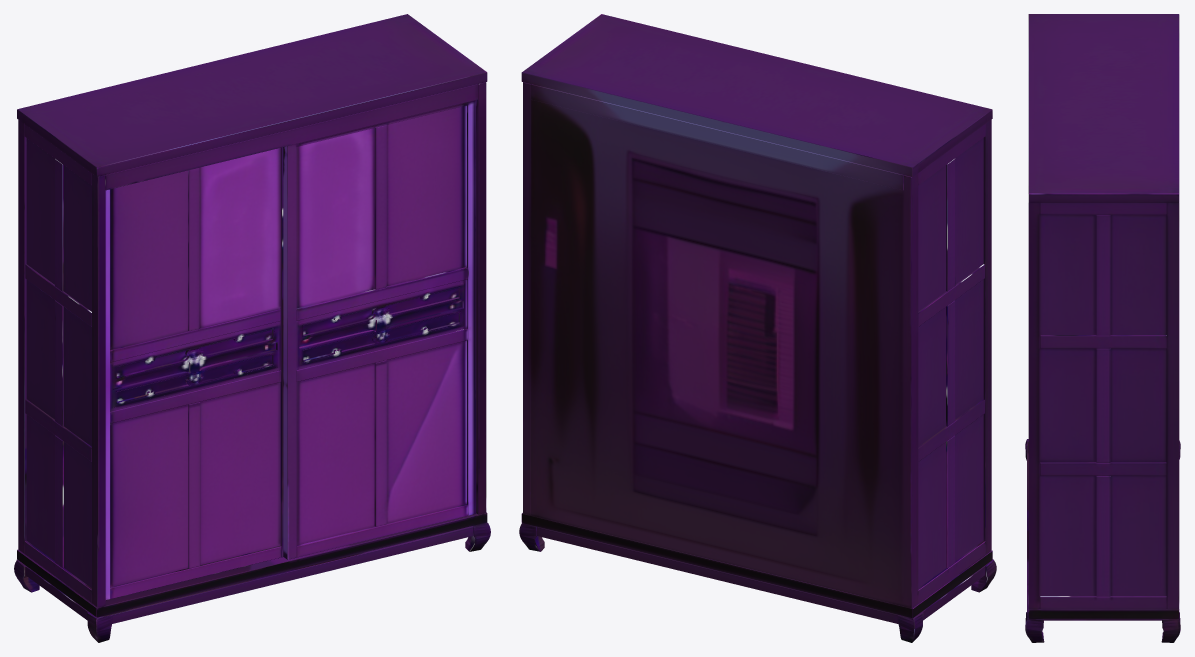
Rendered from edited_mesh.glb.
The picture shows the model from 3 angles, left to right: view 1: azimuth 30°, elevation 25°; view 2: azimuth 150°, elevation 25°; view 3: azimuth 270°, elevation 25°; orthographic projection. The views are drawn at different scales.
Visible parts, largest first — view 1: normalized_model.obj; view 2: normalized_model.obj; view 3: normalized_model.obj.
Part boxes in pixels (box(x1,y1,x2,y2)): normalized_model.obj: box(14, 14, 490, 642); normalized_model.obj: box(519, 14, 996, 642); normalized_model.obj: box(1025, 14, 1180, 642).
Size of the model in its own units: 1.21 by 1.4 by 0.4358.
1 material, 1 textured.
